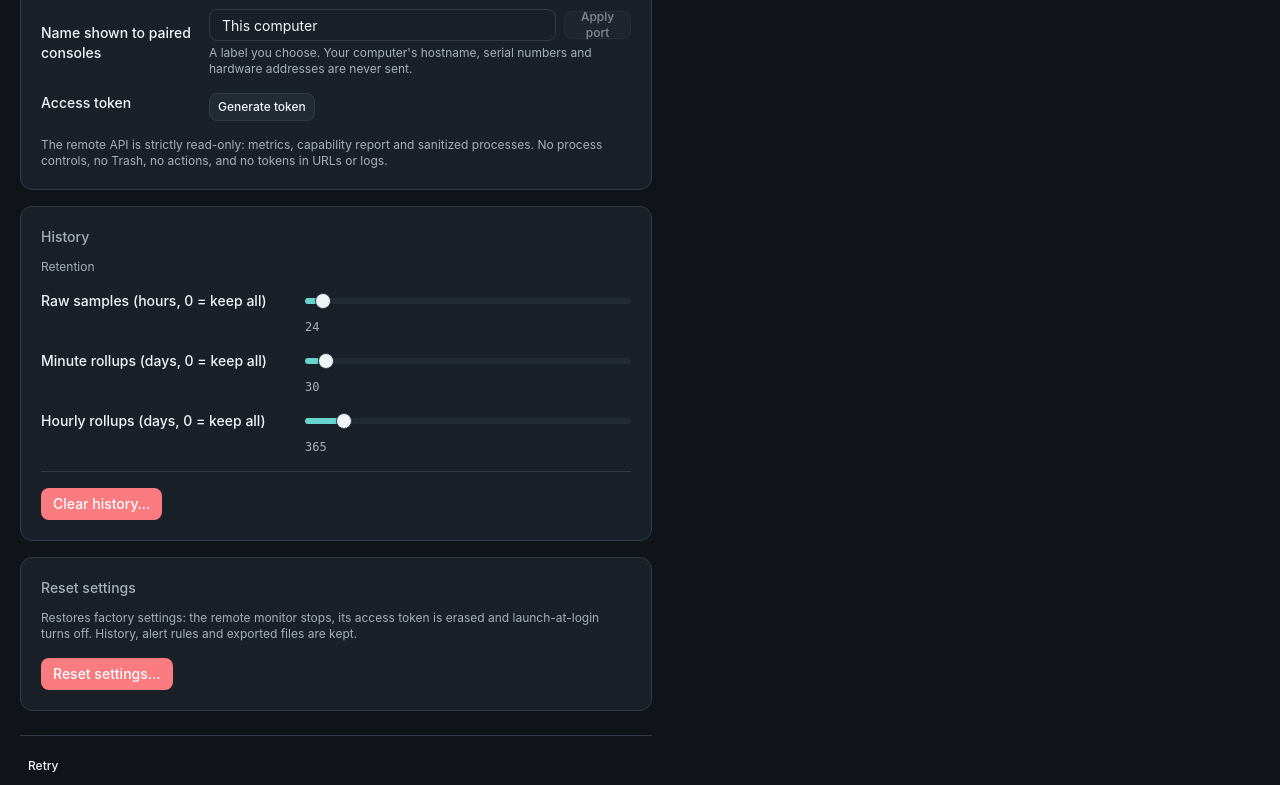
Scenario: SettingsPage factory reset › a rejected reset reports failure and keeps current settings
(page scrolled)
Click the button "Reset settings…" at x=107, y=674, box [41, 658, 172, 690]
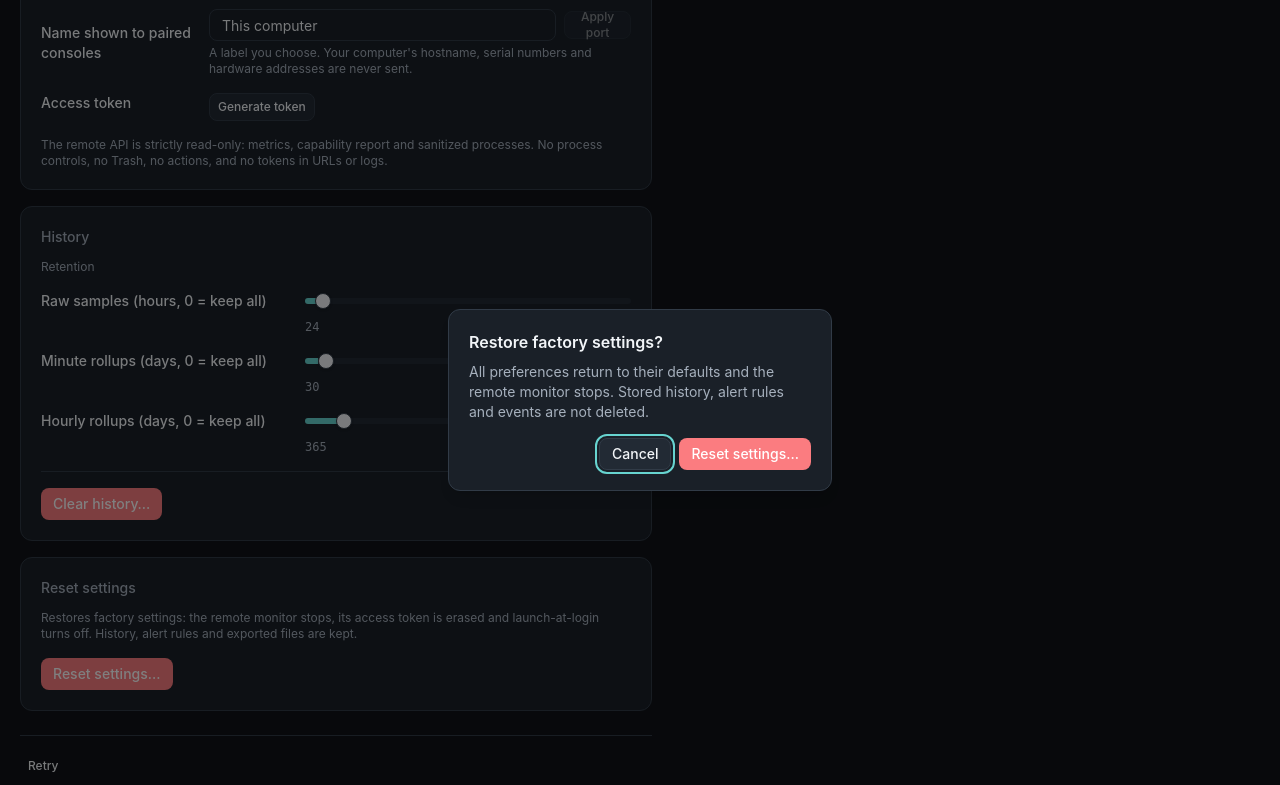
Click the button "Reset settings…" at x=745, y=454, box [680, 438, 811, 470]
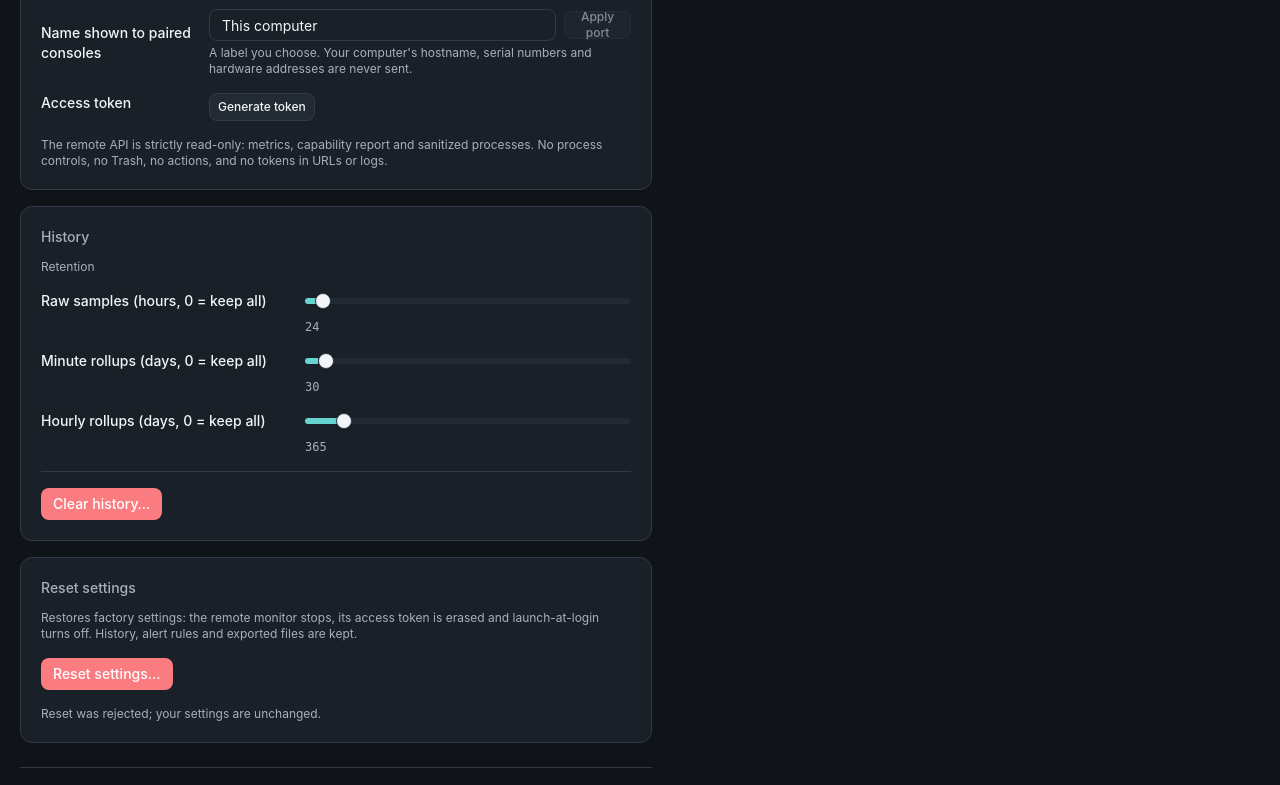
Result: the text "Reset was rejected; your settings are unchanged." is shown at [41, 706, 321, 721]
